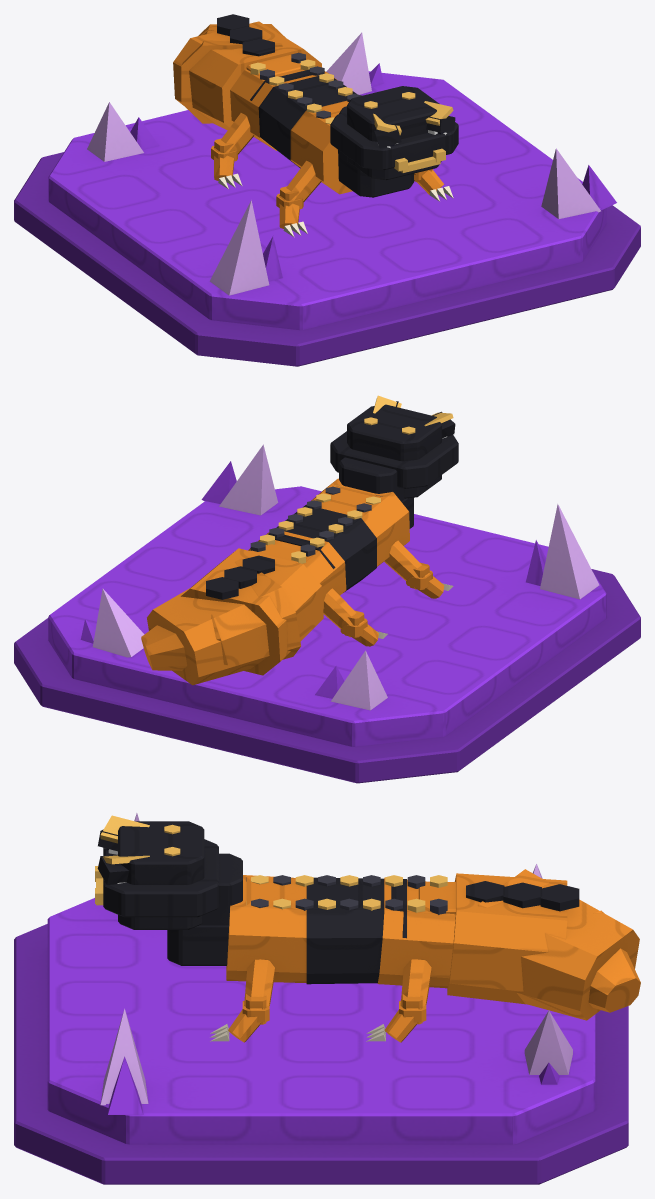
Rendered from BeadGila.fbx.
The picture shows the model from 3 angles, top to bottom: view 1: azimuth 30°, elevation 25°; view 2: azimuth 150°, elevation 25°; view 3: azimuth 270°, elevation 25°; orthographic projection. The views are drawn at different scales.
Parts seen in each view (by area): view 1: Art_BeadGila_Stand, Art_BeadGila_Body, Art_BeadGila_Head, Art_BeadGila_Tail; view 2: Art_BeadGila_Stand, Art_BeadGila_Tail, Art_BeadGila_Body, Art_BeadGila_Head; view 3: Art_BeadGila_Stand, Art_BeadGila_Body, Art_BeadGila_Tail, Art_BeadGila_Head.
Part boxes in pixels (x1,y1,x2,y2): Art_BeadGila_Stand: (14,32,640,366); Art_BeadGila_Body: (211,52,453,237); Art_BeadGila_Head: (330,86,458,197); Art_BeadGila_Tail: (173,14,321,130); Art_BeadGila_Stand: (14,444,640,783); Art_BeadGila_Tail: (141,544,323,685); Art_BeadGila_Body: (248,478,453,646); Art_BeadGila_Head: (330,395,458,528); Art_BeadGila_Stand: (14,813,628,1184); Art_BeadGila_Body: (210,875,455,1042); Art_BeadGila_Tail: (418,869,640,1020); Art_BeadGila_Head: (95,815,242,965).
Bounding box in the file's own units: 3.3 × 1.3 × 3.37.
